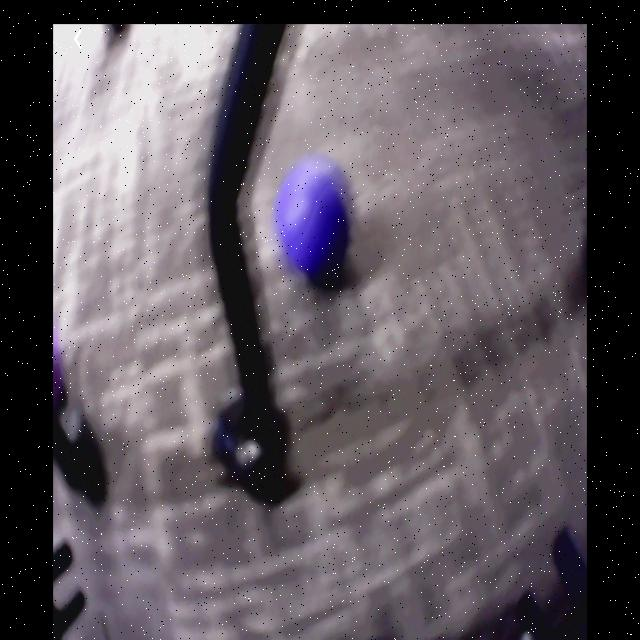ball: (276, 163, 356, 280)
